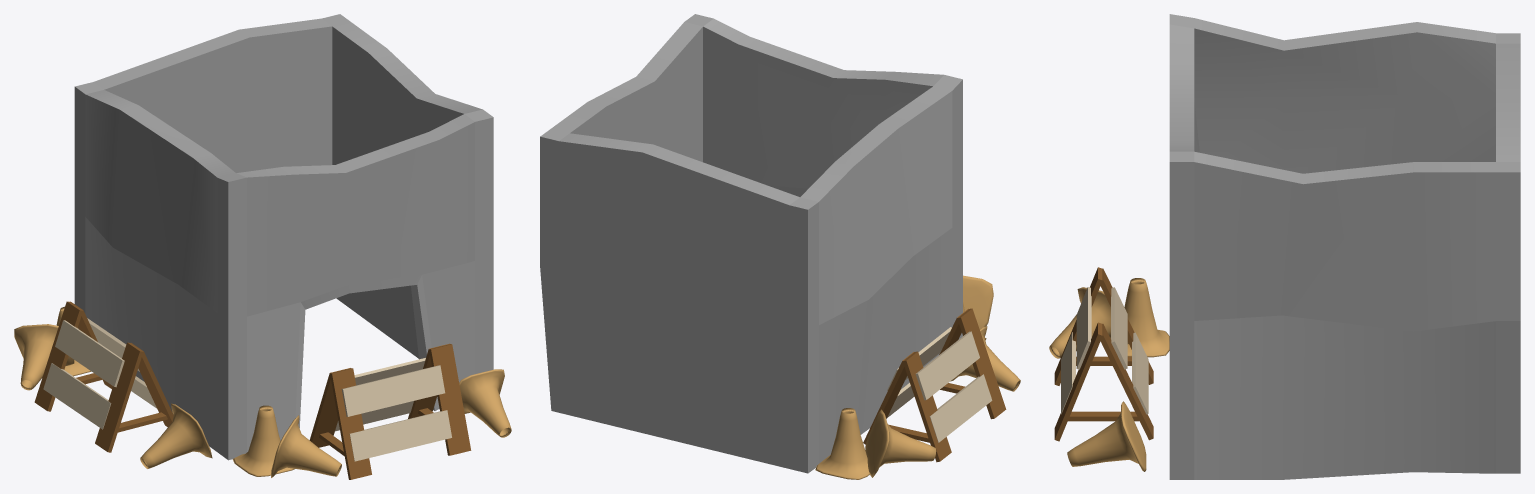
The model's file is Casa_4x4.fbx.
3 renders of one model, left to right at view 1: azimuth 30°, elevation 25°; view 2: azimuth 150°, elevation 25°; view 3: azimuth 270°, elevation 25°, orthographic. The views are drawn at different scales.
Parts seen in each view (by area): view 1: Casa_4x4; view 2: Casa_4x4; view 3: Casa_4x4.
Boxes of the visible parts, x1=… form: Casa_4x4: x1=14, y1=14, x2=511, y2=479; Casa_4x4: x1=540, y1=14, x2=1020, y2=479; Casa_4x4: x1=1049, y1=14, x2=1520, y2=479.
Size of the model in its own units: 535 by 405 by 537.
3 materials, 1 textured.
